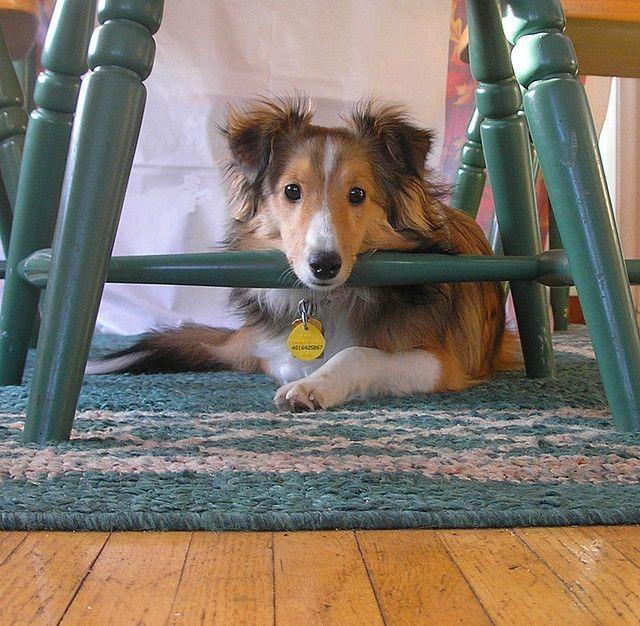adult_dog: (89, 88, 508, 411)
